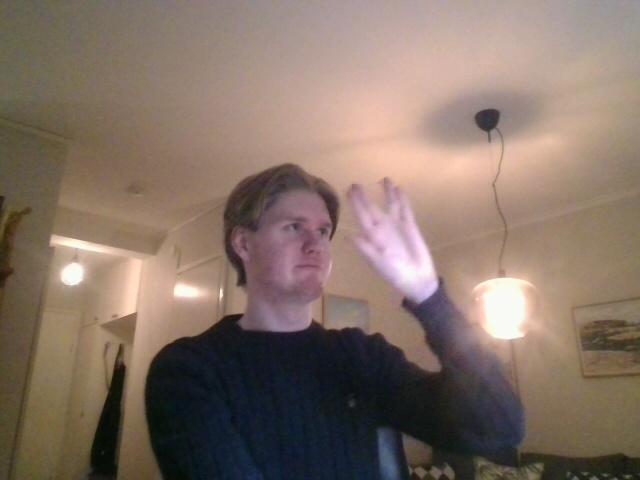LiveLong: (346, 174, 434, 291)
